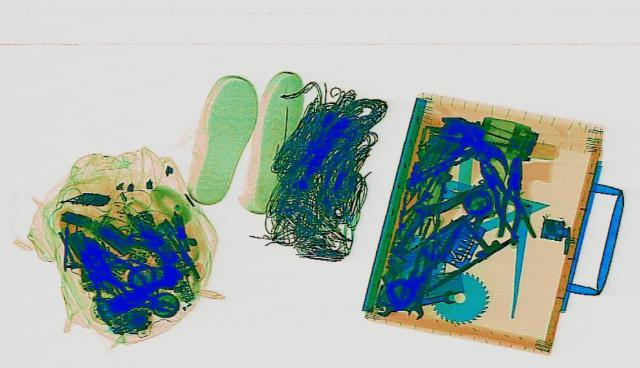Pliers: (64, 248, 150, 323), (468, 156, 540, 242), (494, 156, 528, 236)
Wrench: (405, 238, 439, 317), (370, 286, 460, 314)
